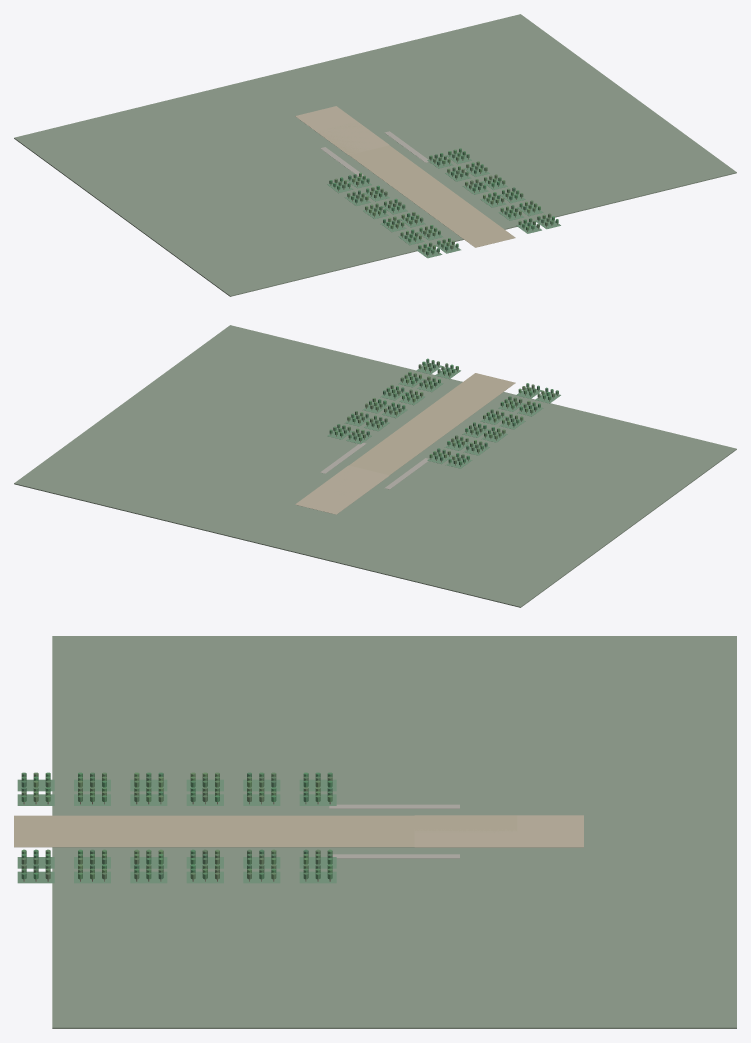
The model's file is paris_parks.glb.
The picture shows the model from 3 angles, top to bottom: view 1: azimuth 30°, elevation 25°; view 2: azimuth 150°, elevation 25°; view 3: azimuth 270°, elevation 25°; orthographic projection. The views are drawn at different scales.
Parts seen in each view (by area): view 1: world; view 2: world; view 3: world.
Boxes of the visible parts, <box> form: world: <box>14,14,736,296</box>; world: <box>14,325,736,607</box>; world: <box>14,636,736,1028</box>.
Bounding box in the file's own units: 1150 × 13.25 × 898.
